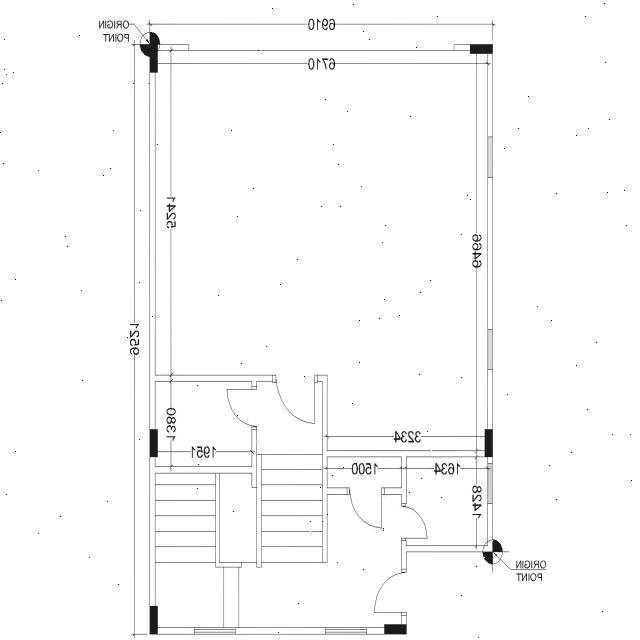Column: (150, 44, 158, 72), (150, 429, 158, 457), (150, 606, 158, 634), (485, 429, 493, 457), (384, 624, 406, 634), (470, 44, 492, 54)
Door: (272, 373, 318, 425), (346, 487, 386, 531), (373, 568, 408, 618), (225, 384, 258, 432), (401, 502, 428, 542)
Staircase: (152, 452, 324, 626)
Window: (324, 626, 368, 636), (486, 136, 494, 180), (486, 328, 494, 372), (486, 462, 494, 506), (193, 627, 236, 635)
